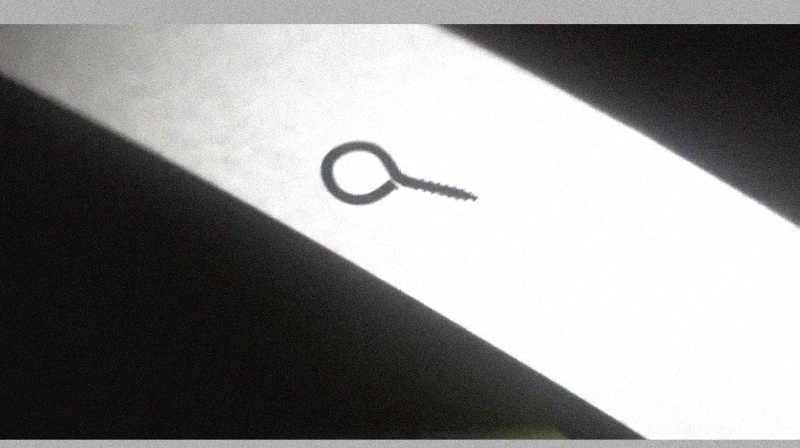O001: (317, 138, 483, 209)
